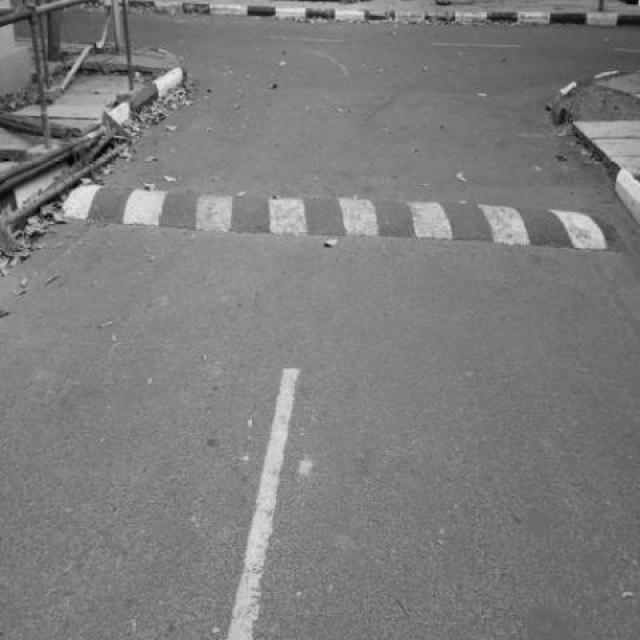Speed Bump: (58, 187, 620, 254)
